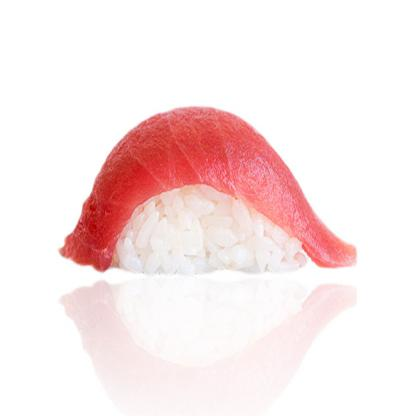maguro: (49, 97, 367, 288)
